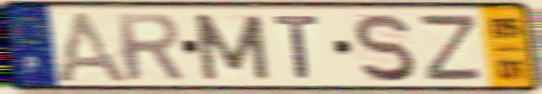A: (51, 8, 134, 86)
M: (189, 12, 274, 83)
R: (111, 11, 188, 83)
S: (350, 11, 419, 84)
T: (271, 13, 323, 81)
Z: (418, 12, 485, 83)
